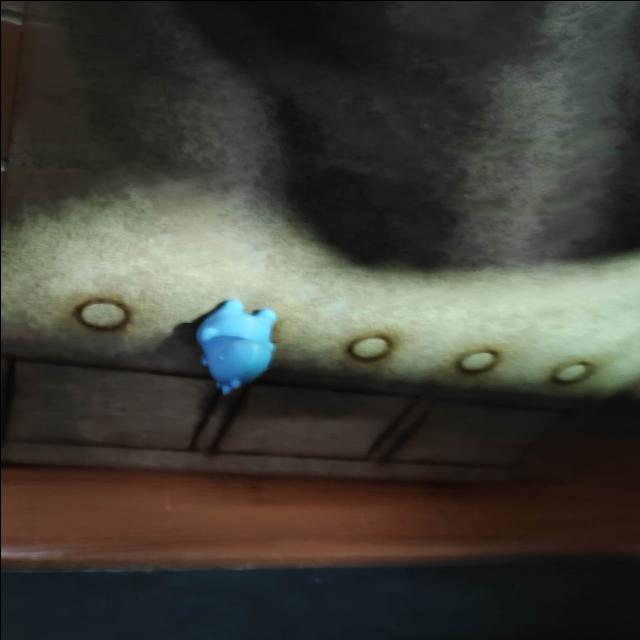DINO: (168, 298, 302, 401)
